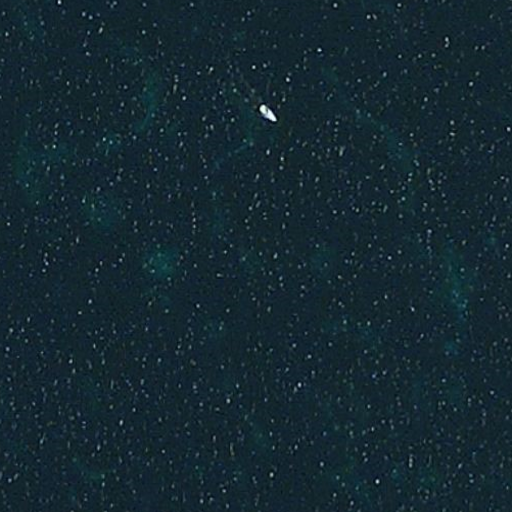ship: (256, 101, 279, 126)
